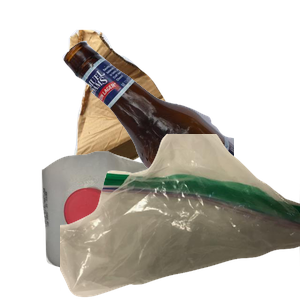cardboard: (66, 27, 242, 197)
glass: (60, 38, 300, 218)
plastic: (39, 149, 203, 300)
trash: (60, 134, 300, 300)
